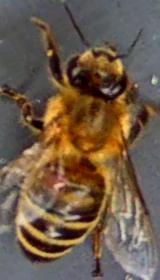varroa_mite: (34, 165, 71, 190)
